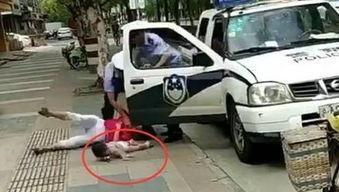Fall-Detected: (85, 131, 156, 162)
